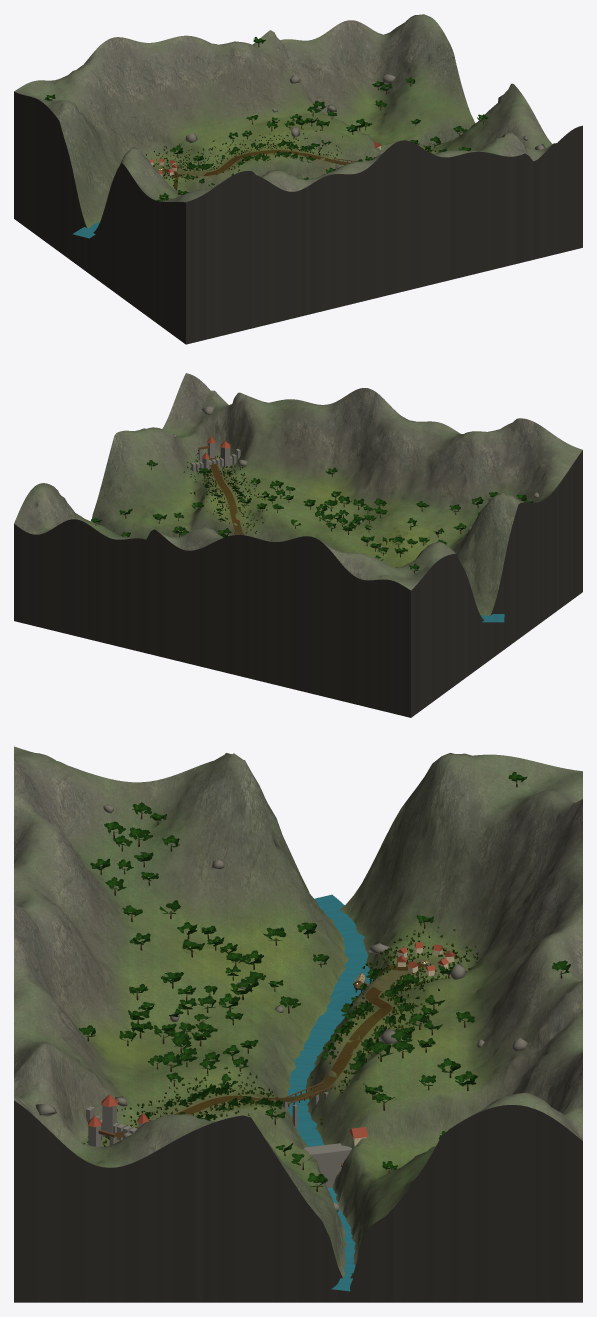
3 views of the same model, one above another, from view 1: azimuth 30°, elevation 25°; view 2: azimuth 150°, elevation 25°; view 3: azimuth 270°, elevation 25° (orthographic). The views are drawn at different scales.
Visible parts, largest first — view 1: edge_skirt, ground_valley, veg_canopy, veg_hedge, veg_meadow, walk_road, rocks; view 2: edge_skirt, ground_valley, veg_canopy, clifftown, veg_meadow, walk_road; view 3: ground_valley, edge_skirt, veg_canopy, water_river, veg_meadow, veg_hedge, walk_road, rocks, clifftown, dam, tree_trunks, village.
Boxes of the visible parts, x1,y1,x2,y2 form: edge_skirt: [14, 91, 582, 344]; ground_valley: [14, 14, 564, 228]; veg_canopy: [44, 37, 488, 200]; veg_hedge: [184, 140, 446, 188]; veg_meadow: [146, 129, 435, 186]; walk_road: [162, 150, 350, 176]; rocks: [174, 74, 545, 190]; edge_skirt: [14, 450, 582, 717]; ground_valley: [14, 373, 582, 615]; veg_canopy: [91, 460, 533, 571]; clifftown: [191, 436, 240, 471]; veg_meadow: [183, 450, 267, 533]; walk_road: [209, 458, 243, 535]; ground_valley: [14, 746, 582, 1277]; edge_skirt: [14, 1100, 582, 1302]; veg_canopy: [78, 771, 570, 1187]; water_river: [287, 894, 369, 1291]; veg_meadow: [83, 923, 478, 1146]; veg_hedge: [138, 968, 414, 1120]; walk_road: [114, 961, 426, 1137]; rocks: [35, 805, 527, 1212]; clifftown: [86, 1094, 149, 1147]; dam: [303, 1127, 368, 1187]; tree_trunks: [87, 780, 562, 1191]; village: [397, 941, 460, 975].
Size of the model in its own units: 130 by 46 by 90.
Materials: 7 (4 with a texture image).
